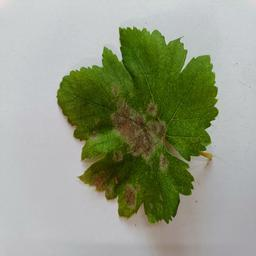Powdery-Mildew: (108, 98, 169, 171), (85, 132, 116, 156), (93, 170, 119, 193), (118, 187, 137, 212), (109, 73, 126, 89)
